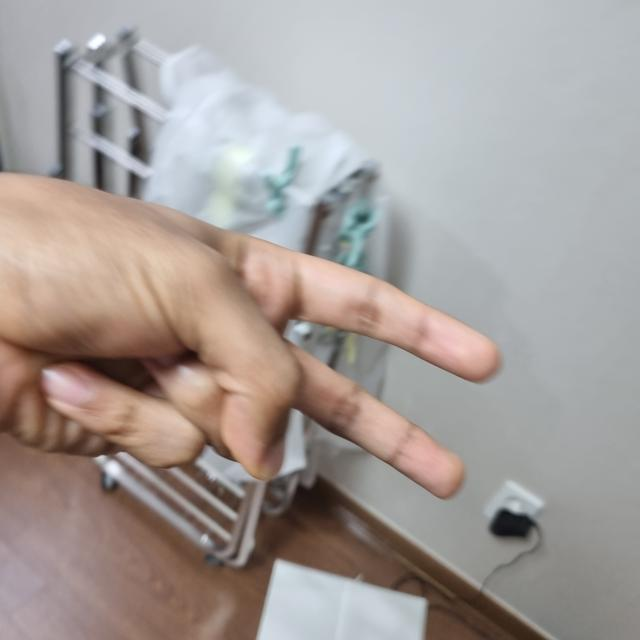Scissors: (0, 171, 500, 639)
